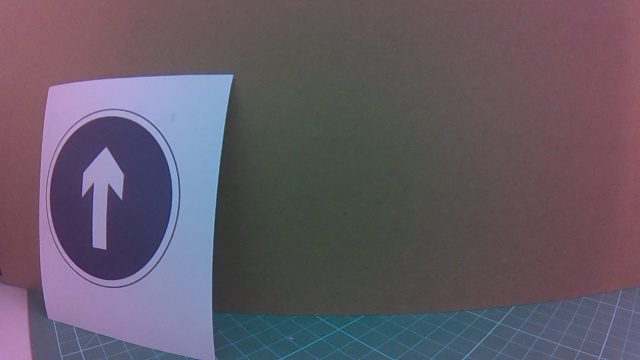forward: (37, 99, 232, 305)
